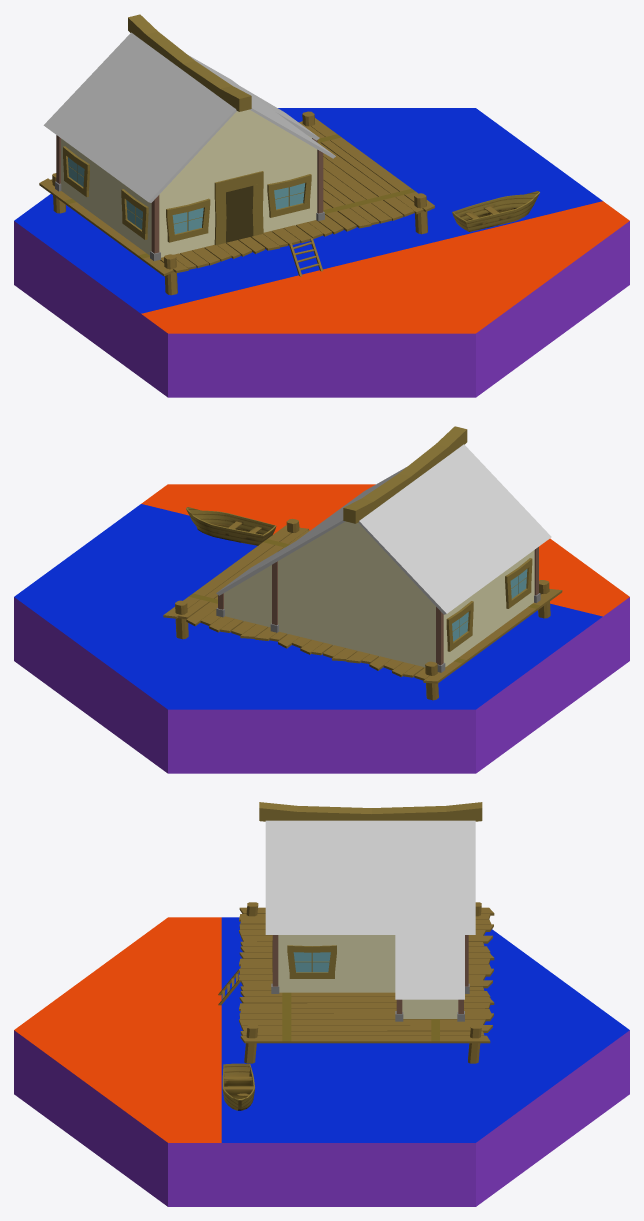
Rendered from Tuile_Village_Pecheur_Level2.fbx.
3 renders of one model, top to bottom at view 1: azimuth 30°, elevation 25°; view 2: azimuth 150°, elevation 25°; view 3: azimuth 270°, elevation 25°, orthographic.
Parts seen in each view (by area): view 1: Tuile, toit, mur maison, platforme 2, fenetre, porte, Bateau.002, poutre; view 2: Tuile, mur maison, toit, platforme 2, cabane, Bateau.002, fenetre, poutre; view 3: Tuile, toit, platforme 2, mur maison, cabane toit, fenetre, Bateau.002, cabane, poutre.
Boxes of the visible parts, bbox=[...] form: Tuile: bbox=[14, 108, 629, 397]; toit: bbox=[43, 32, 335, 202]; mur maison: bbox=[61, 14, 317, 257]; platforme 2: bbox=[39, 111, 434, 295]; fenetre: bbox=[63, 146, 311, 242]; porte: bbox=[214, 171, 263, 245]; Bateau.002: bbox=[452, 191, 539, 231]; poutre: bbox=[55, 135, 324, 261]; Tuile: bbox=[14, 484, 629, 773]; mur maison: bbox=[278, 426, 534, 667]; toit: bbox=[259, 444, 551, 614]; platforme 2: bbox=[163, 518, 562, 700]; cabane: bbox=[224, 565, 271, 627]; Bateau.002: bbox=[186, 507, 276, 545]; fenetre: bbox=[446, 558, 532, 651]; poutre: bbox=[270, 547, 540, 672]; Tuile: bbox=[14, 917, 629, 1206]; toit: bbox=[265, 820, 475, 934]; platforme 2: bbox=[218, 902, 494, 1063]; mur maison: bbox=[259, 802, 482, 992]; cabane toit: bbox=[395, 935, 464, 999]; fenetre: bbox=[272, 935, 336, 978]; Bateau.002: bbox=[222, 1063, 254, 1110]; cabane: bbox=[402, 999, 458, 1018]; poutre: bbox=[271, 935, 469, 993].
Bounding box in the file's own units: 107 × 52.43 × 124.
